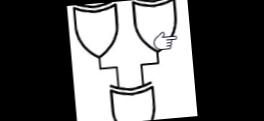xnor: (105, 78, 159, 121)
xor: (68, 1, 124, 62)
